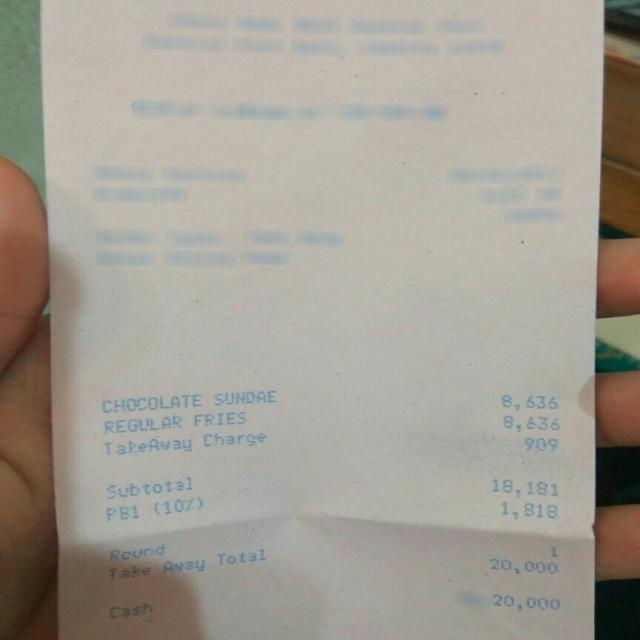kertas: (43, 0, 602, 640)
